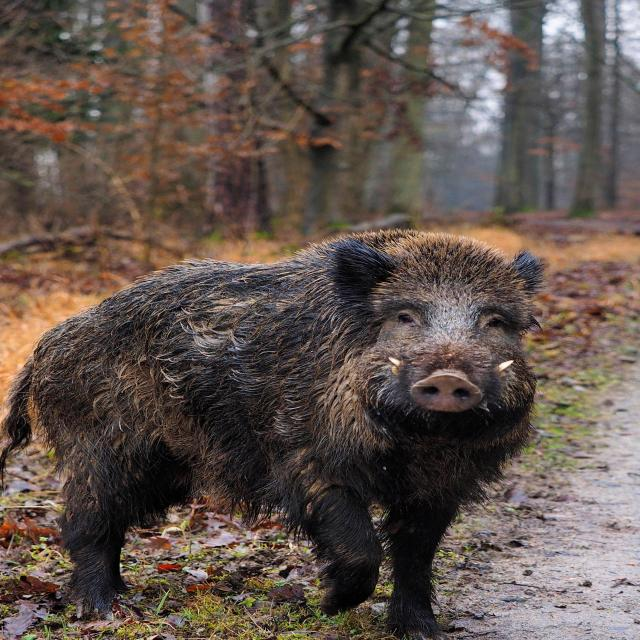Boar: (5, 232, 556, 622)
